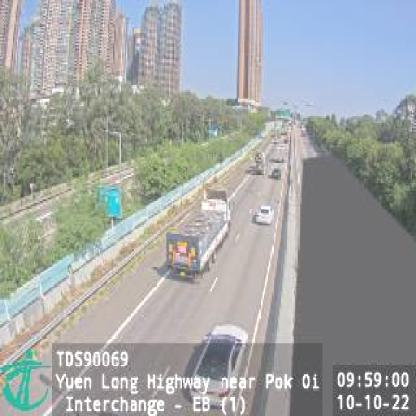Car: (184, 321, 244, 411), (255, 204, 273, 225), (272, 164, 281, 178)
Truck: (165, 188, 230, 281), (254, 153, 265, 176)
